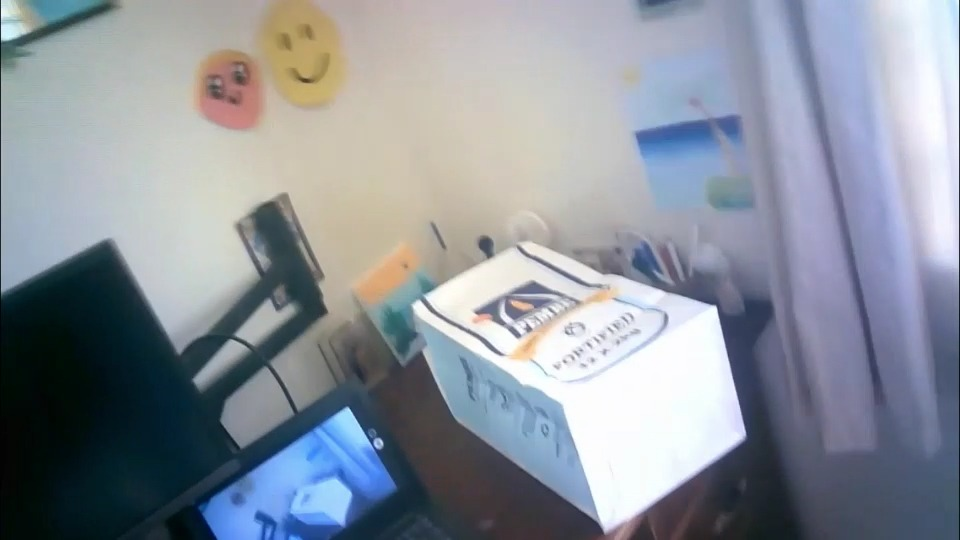wheat_flour_blue_label: (413, 243, 746, 532)
